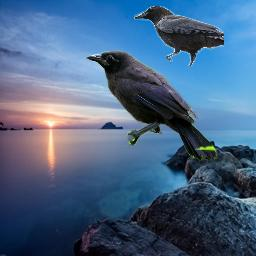Crow: (86, 50, 218, 161), (134, 6, 224, 66)
